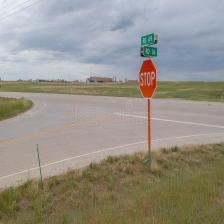Stop-sign: (138, 56, 159, 100)
